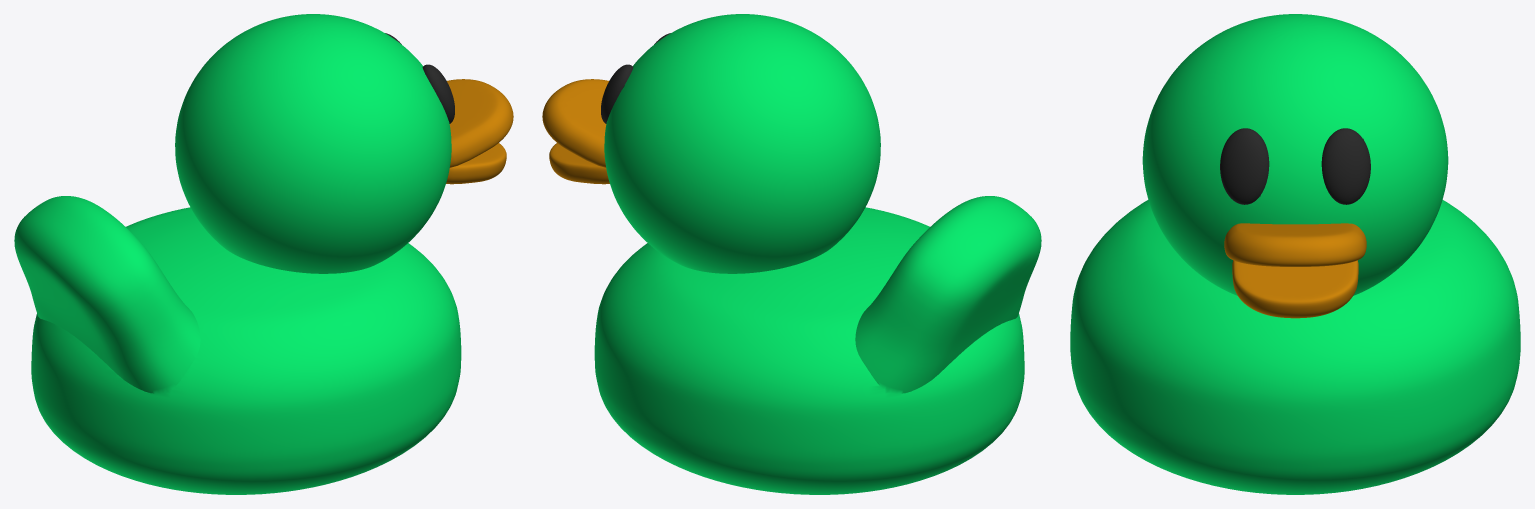
Rendered from DuckGreen.fbx.
3 renders of one model, left to right at view 1: azimuth 30°, elevation 25°; view 2: azimuth 150°, elevation 25°; view 3: azimuth 270°, elevation 25°, orthographic. The views are drawn at different scales.
Visible parts, largest first — view 1: polySurface12; view 2: polySurface12; view 3: polySurface12.
Part boxes in pixels (bbox=[...]): polySurface12: bbox=[14, 14, 513, 494]; polySurface12: bbox=[542, 14, 1041, 494]; polySurface12: bbox=[1070, 14, 1520, 494].
Bounding box in the file's own units: 3.78 × 3.16 × 2.89.
